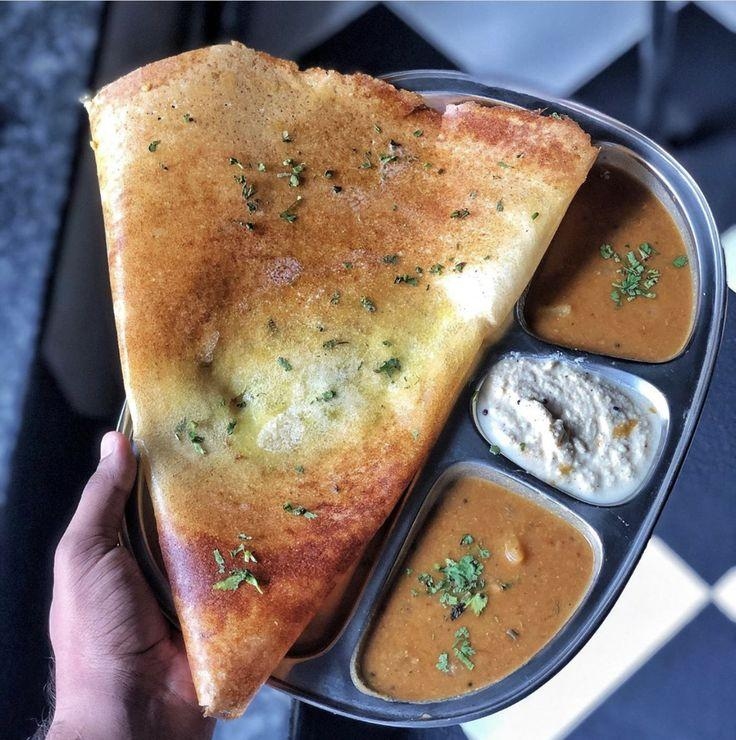dosa: (69, 45, 489, 715)
